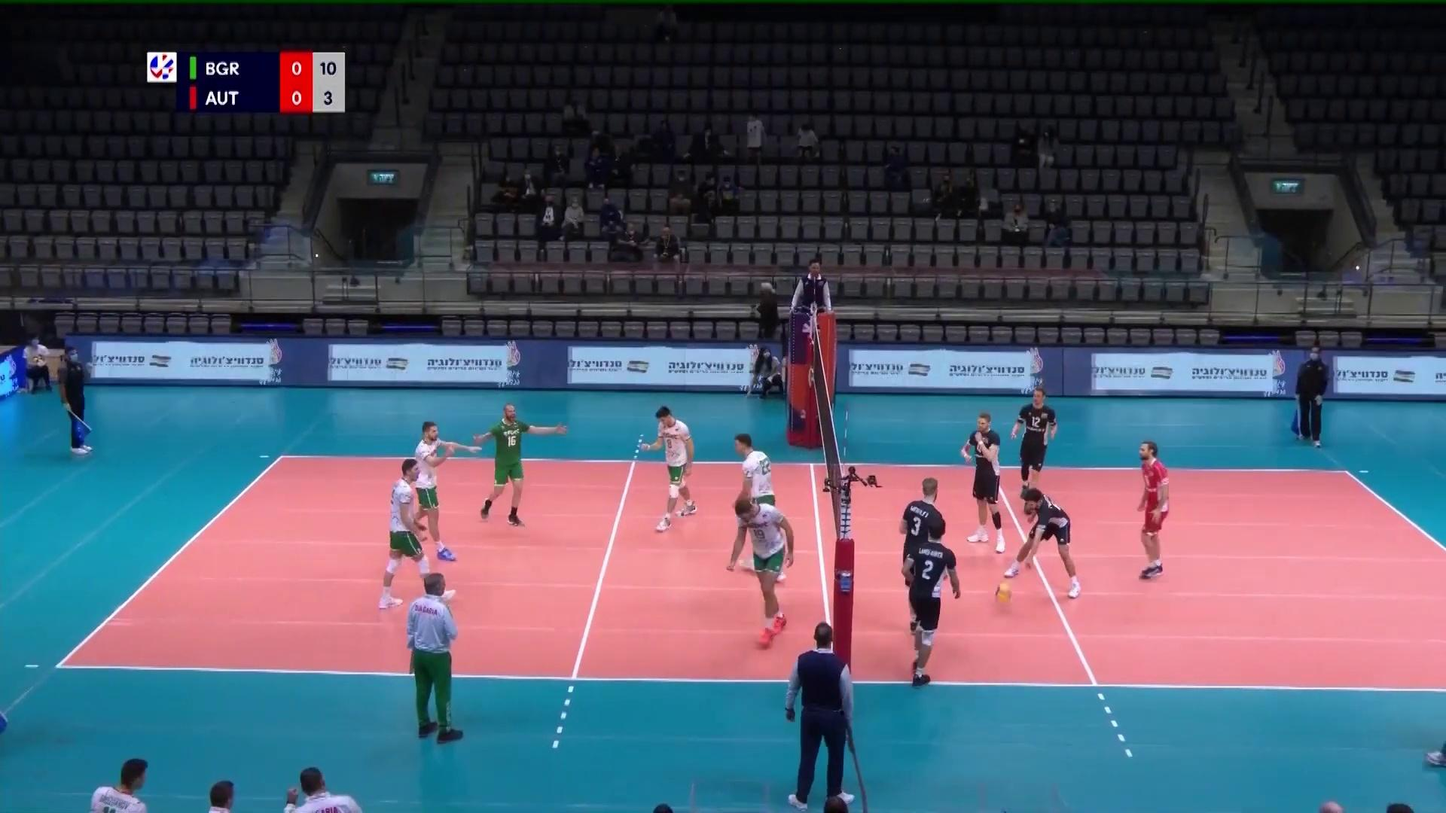ball: (995, 583, 1011, 602)
